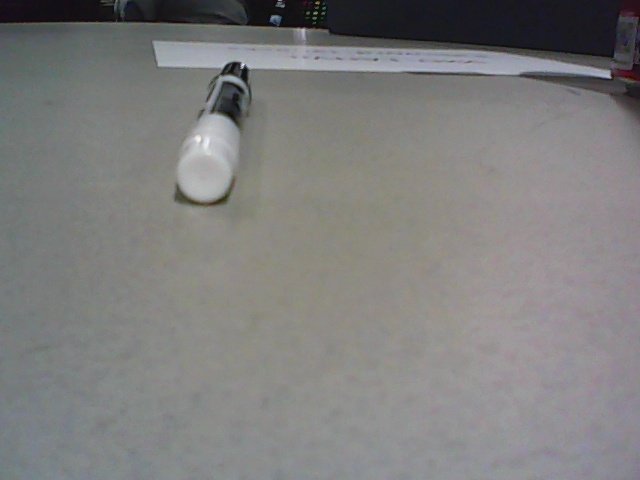marker: (175, 62, 251, 204)
